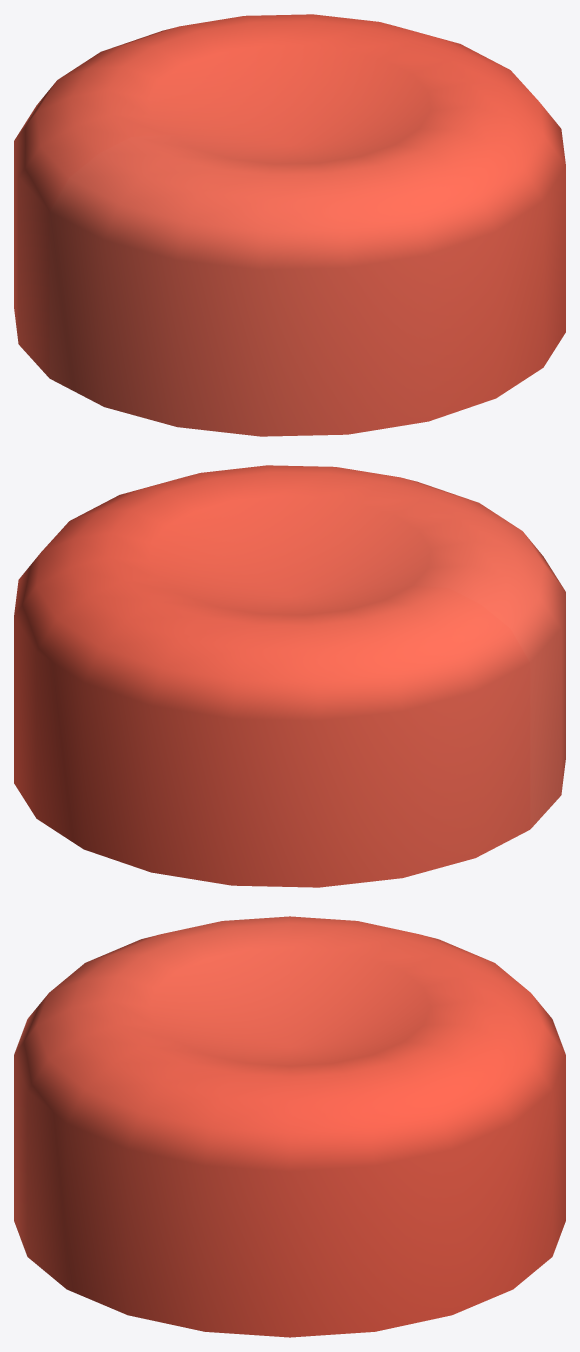
File: SM_Y_05_F_A_Chair_03.fbx
3 views of the same model, one above another, from view 1: azimuth 30°, elevation 25°; view 2: azimuth 150°, elevation 25°; view 3: azimuth 270°, elevation 25° (orthographic).
Parts seen in each view (by area): view 1: SM_Y_05_F_A_Chair_03; view 2: SM_Y_05_F_A_Chair_03; view 3: SM_Y_05_F_A_Chair_03.
Part boxes in pixels (bbox=[...]): SM_Y_05_F_A_Chair_03: bbox=[14, 14, 565, 436]; SM_Y_05_F_A_Chair_03: bbox=[14, 465, 565, 887]; SM_Y_05_F_A_Chair_03: bbox=[14, 916, 565, 1337].
Size of the model in its own units: 121 by 53.53 by 121.
